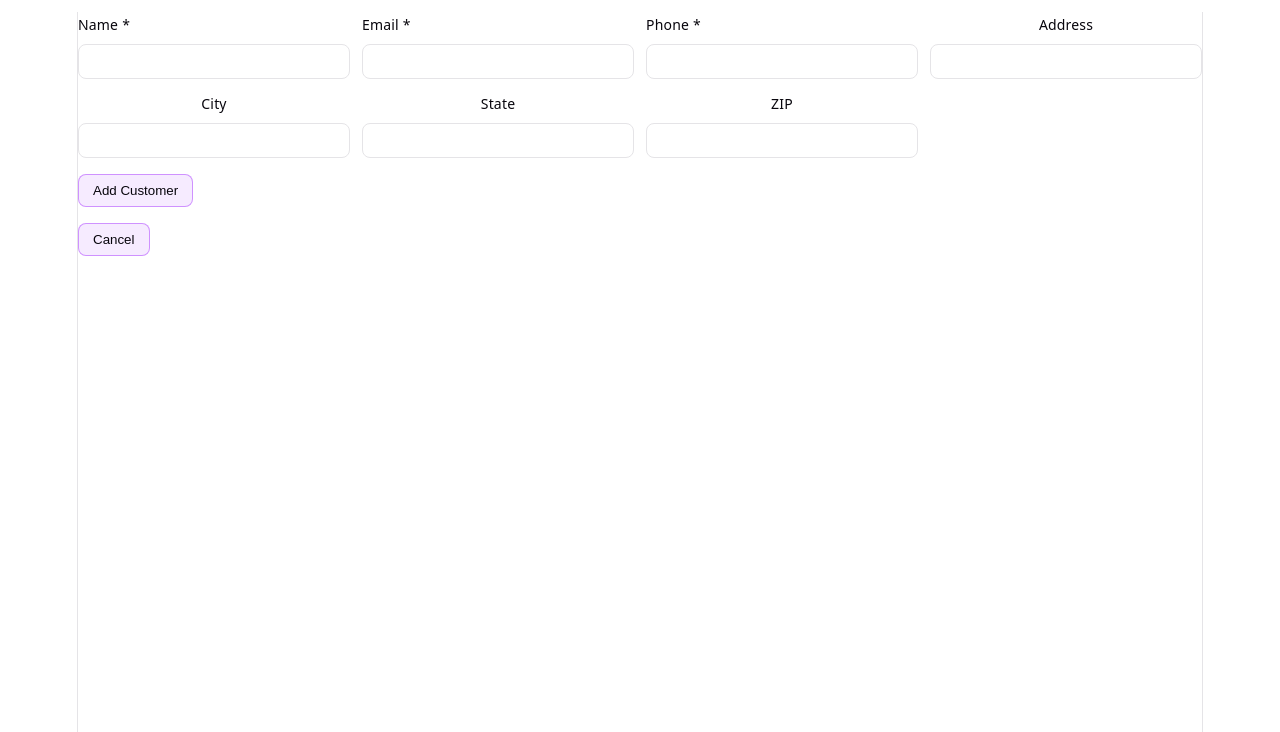
Test: CustomerForm › Name requires at least 2 characters
In the field labelled "Name": coordinates (214, 62) x1=78 y1=44 x2=350 y2=79, type "A"
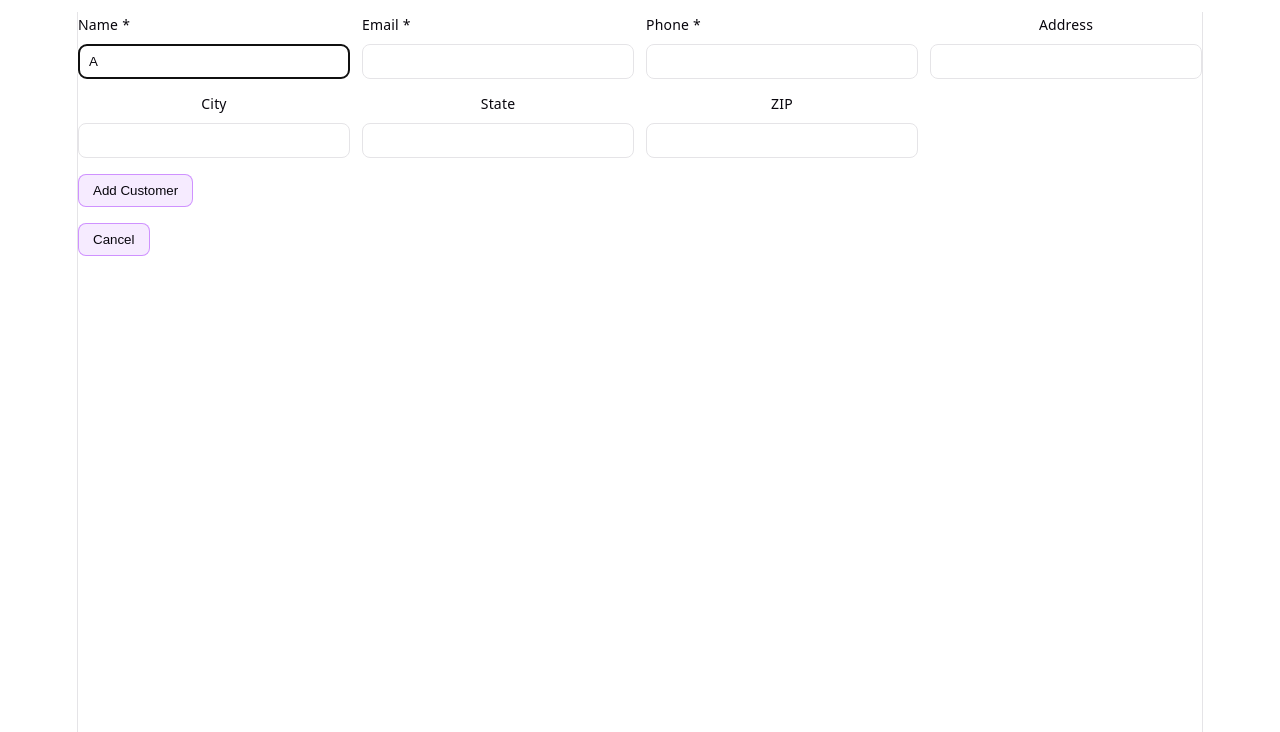
In the field labelled "Email": coordinates (498, 62) x1=362 y1=44 x2=634 y2=79, type "valid@example.com"
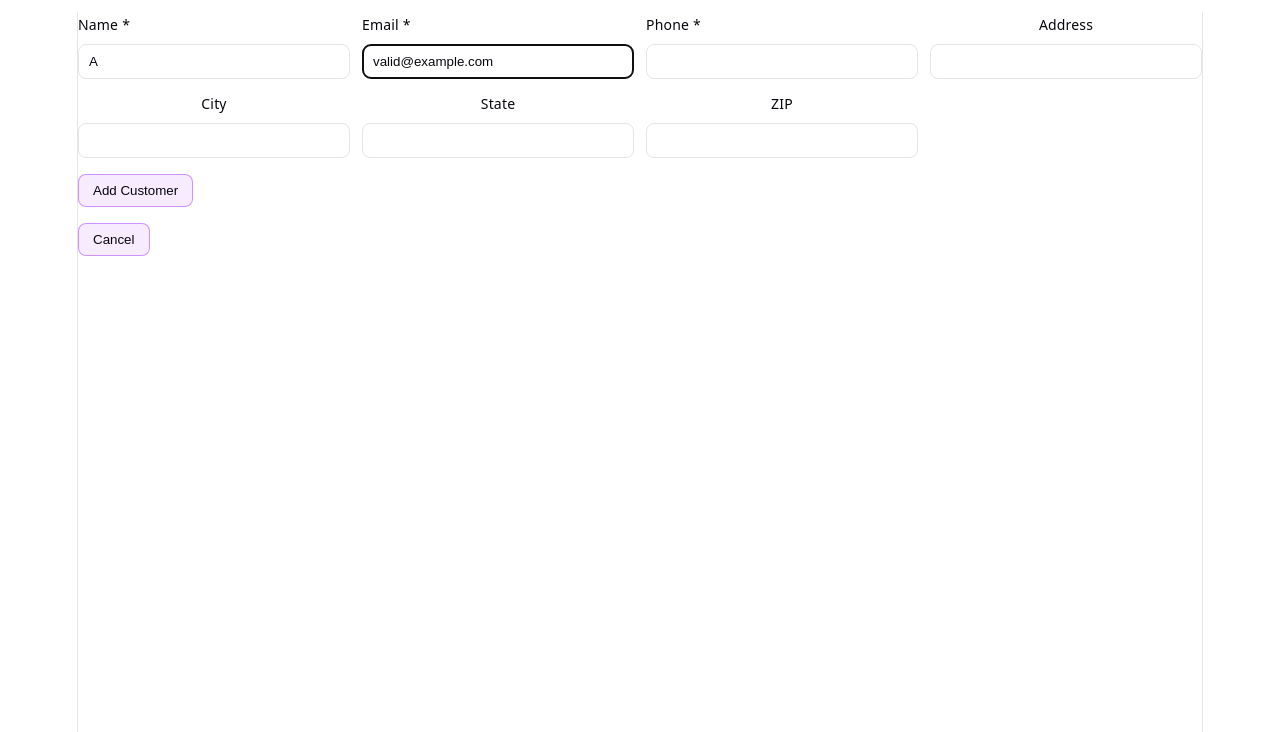
In the field labelled "Phone": coordinates (782, 62) x1=646 y1=44 x2=918 y2=79, type "555-123-4567"
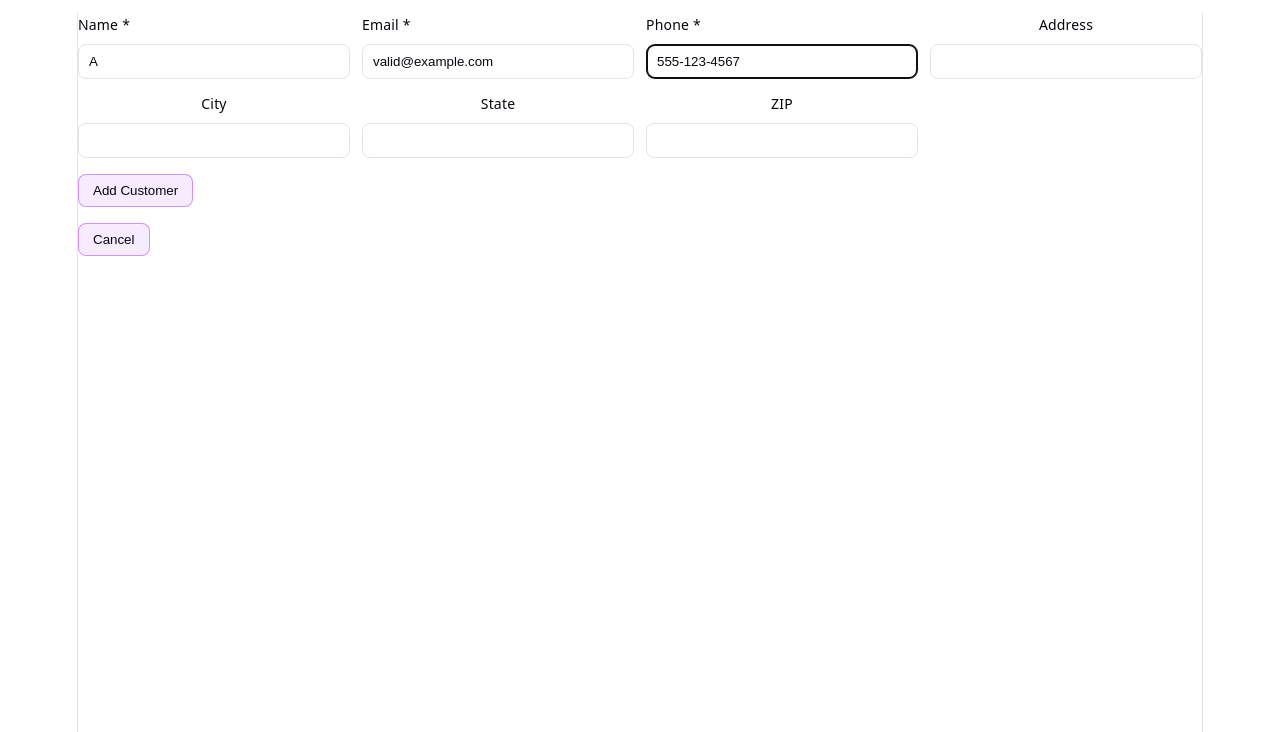
Click the button "Add Customer": coordinates (136, 191) x1=78 y1=174 x2=193 y2=207
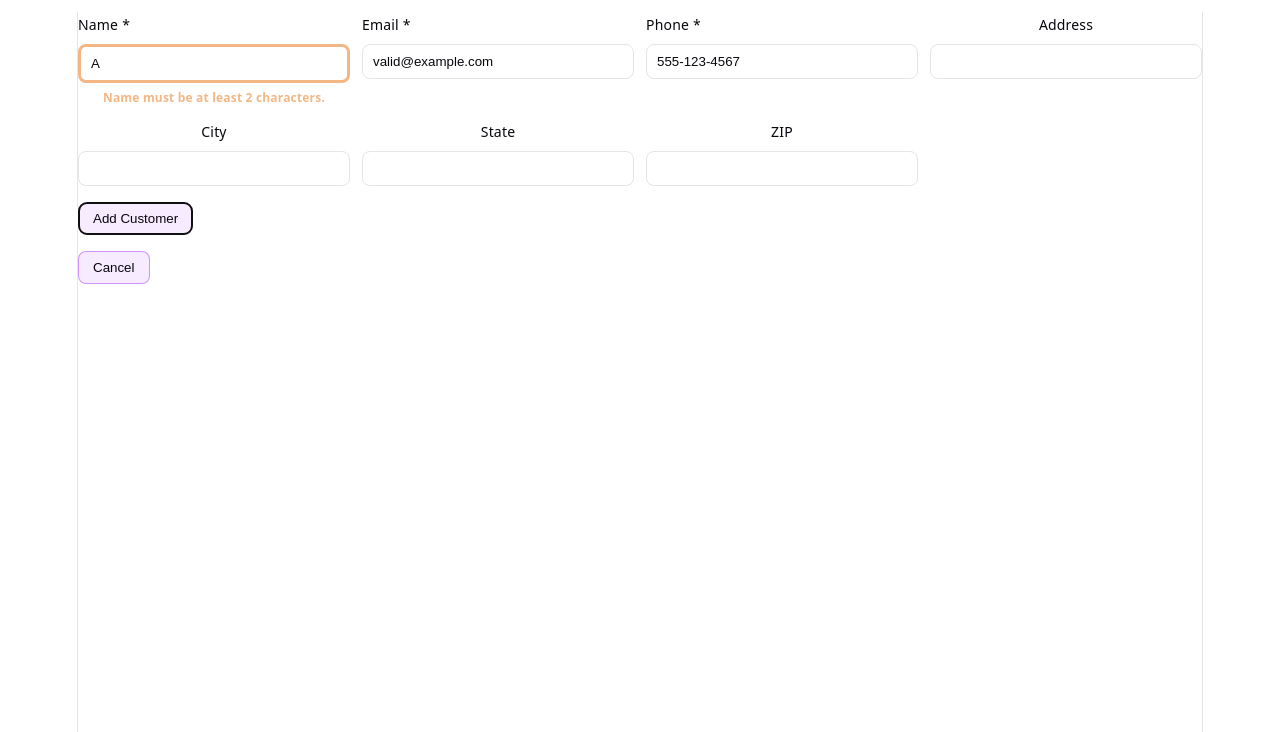
Result: the text "Name must be at least 2 characters." is shown at x1=103 y1=89 x2=325 y2=106
